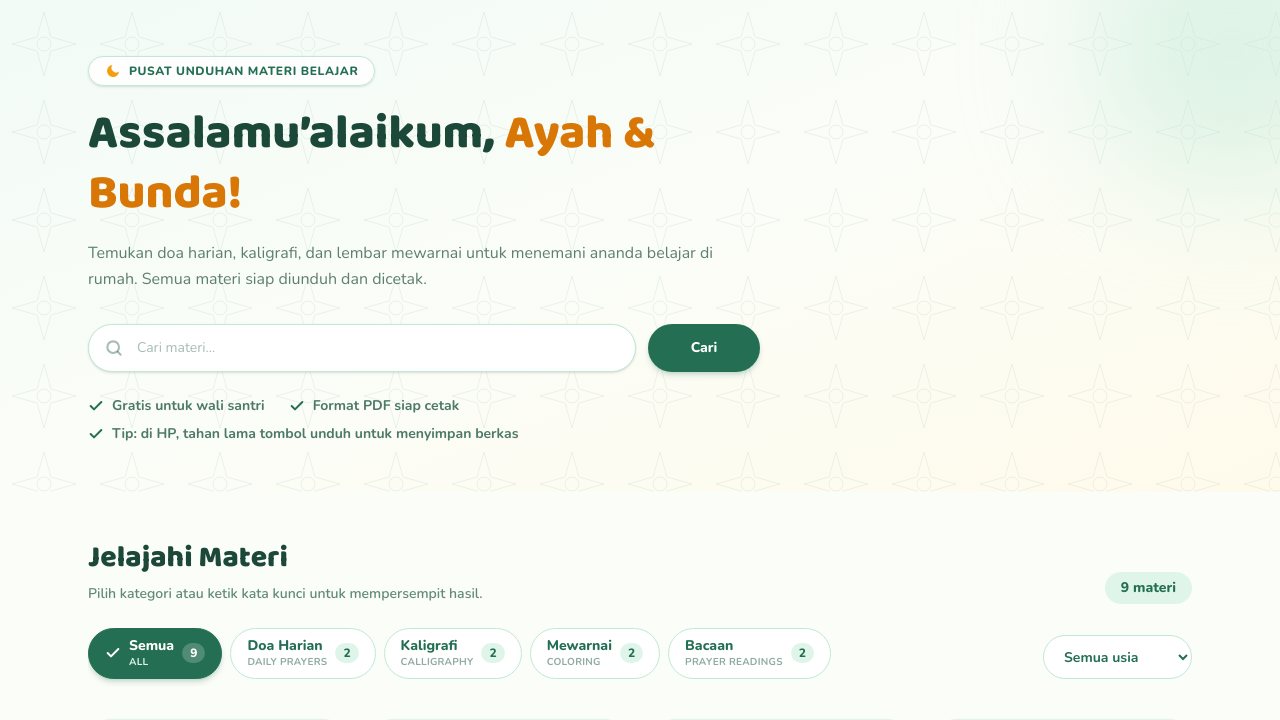
ResourcesDashboard (public resources page) › shows the result count in an aria-live region and filters by chip
Click the button "Mewarnai Coloring 2".
click(595, 653)  # box [530, 628, 660, 679]
(page scrolled)
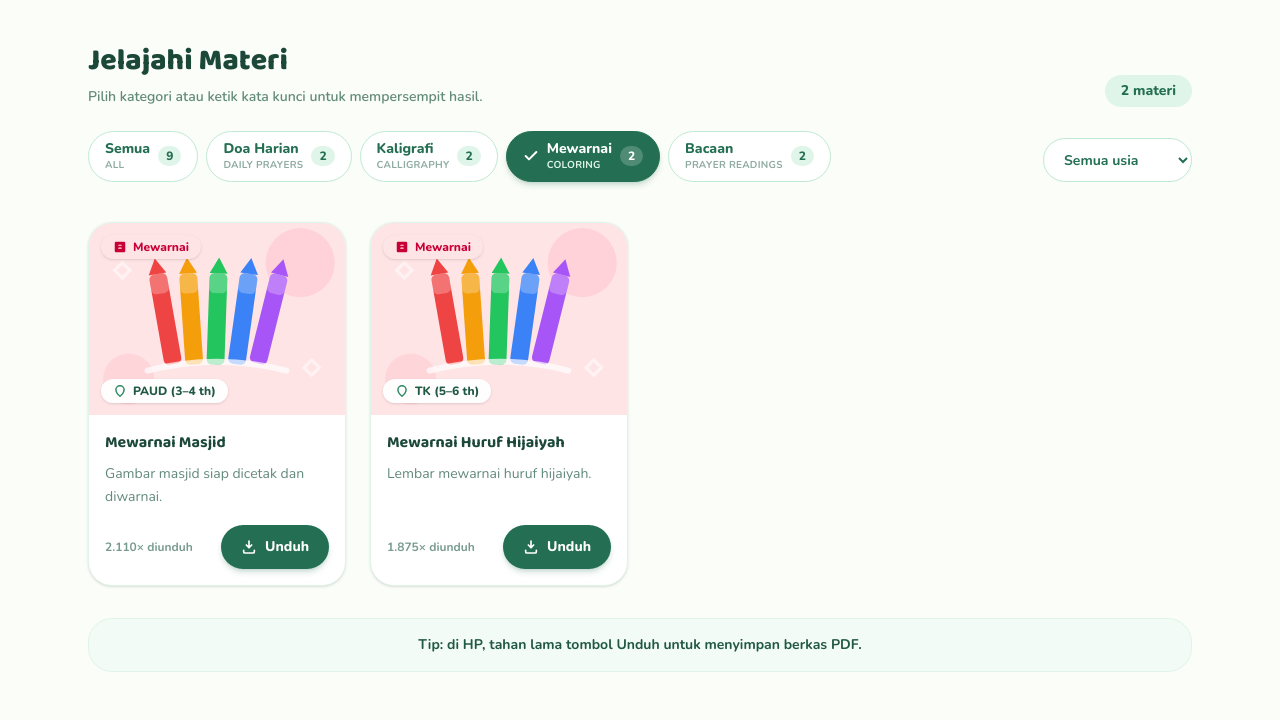
Expected: the link "Mewarnai Masjid" is shown, [105, 431, 226, 455]
Now the text "2 materi" is shown, box [1105, 75, 1192, 107]
